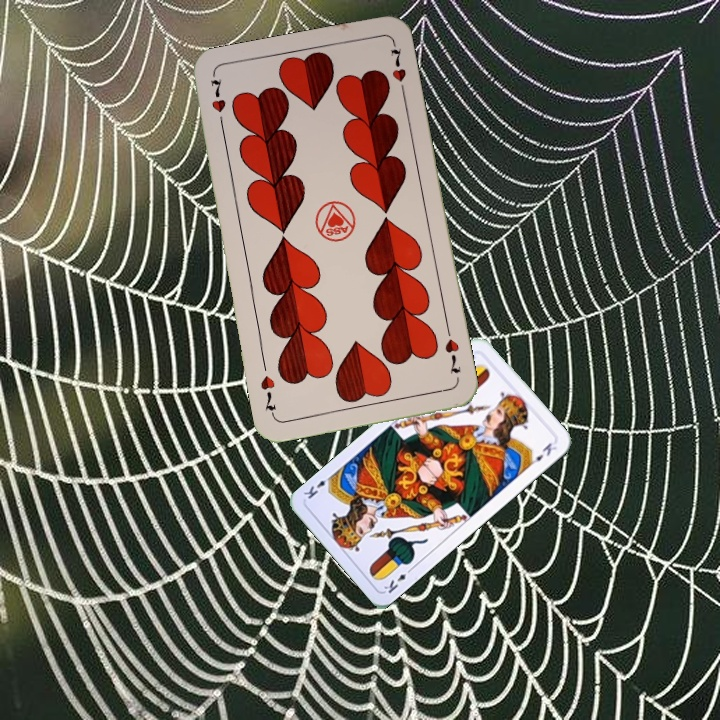EK: (380, 563, 415, 596)
H7: (440, 323, 464, 376), (206, 75, 228, 132)
